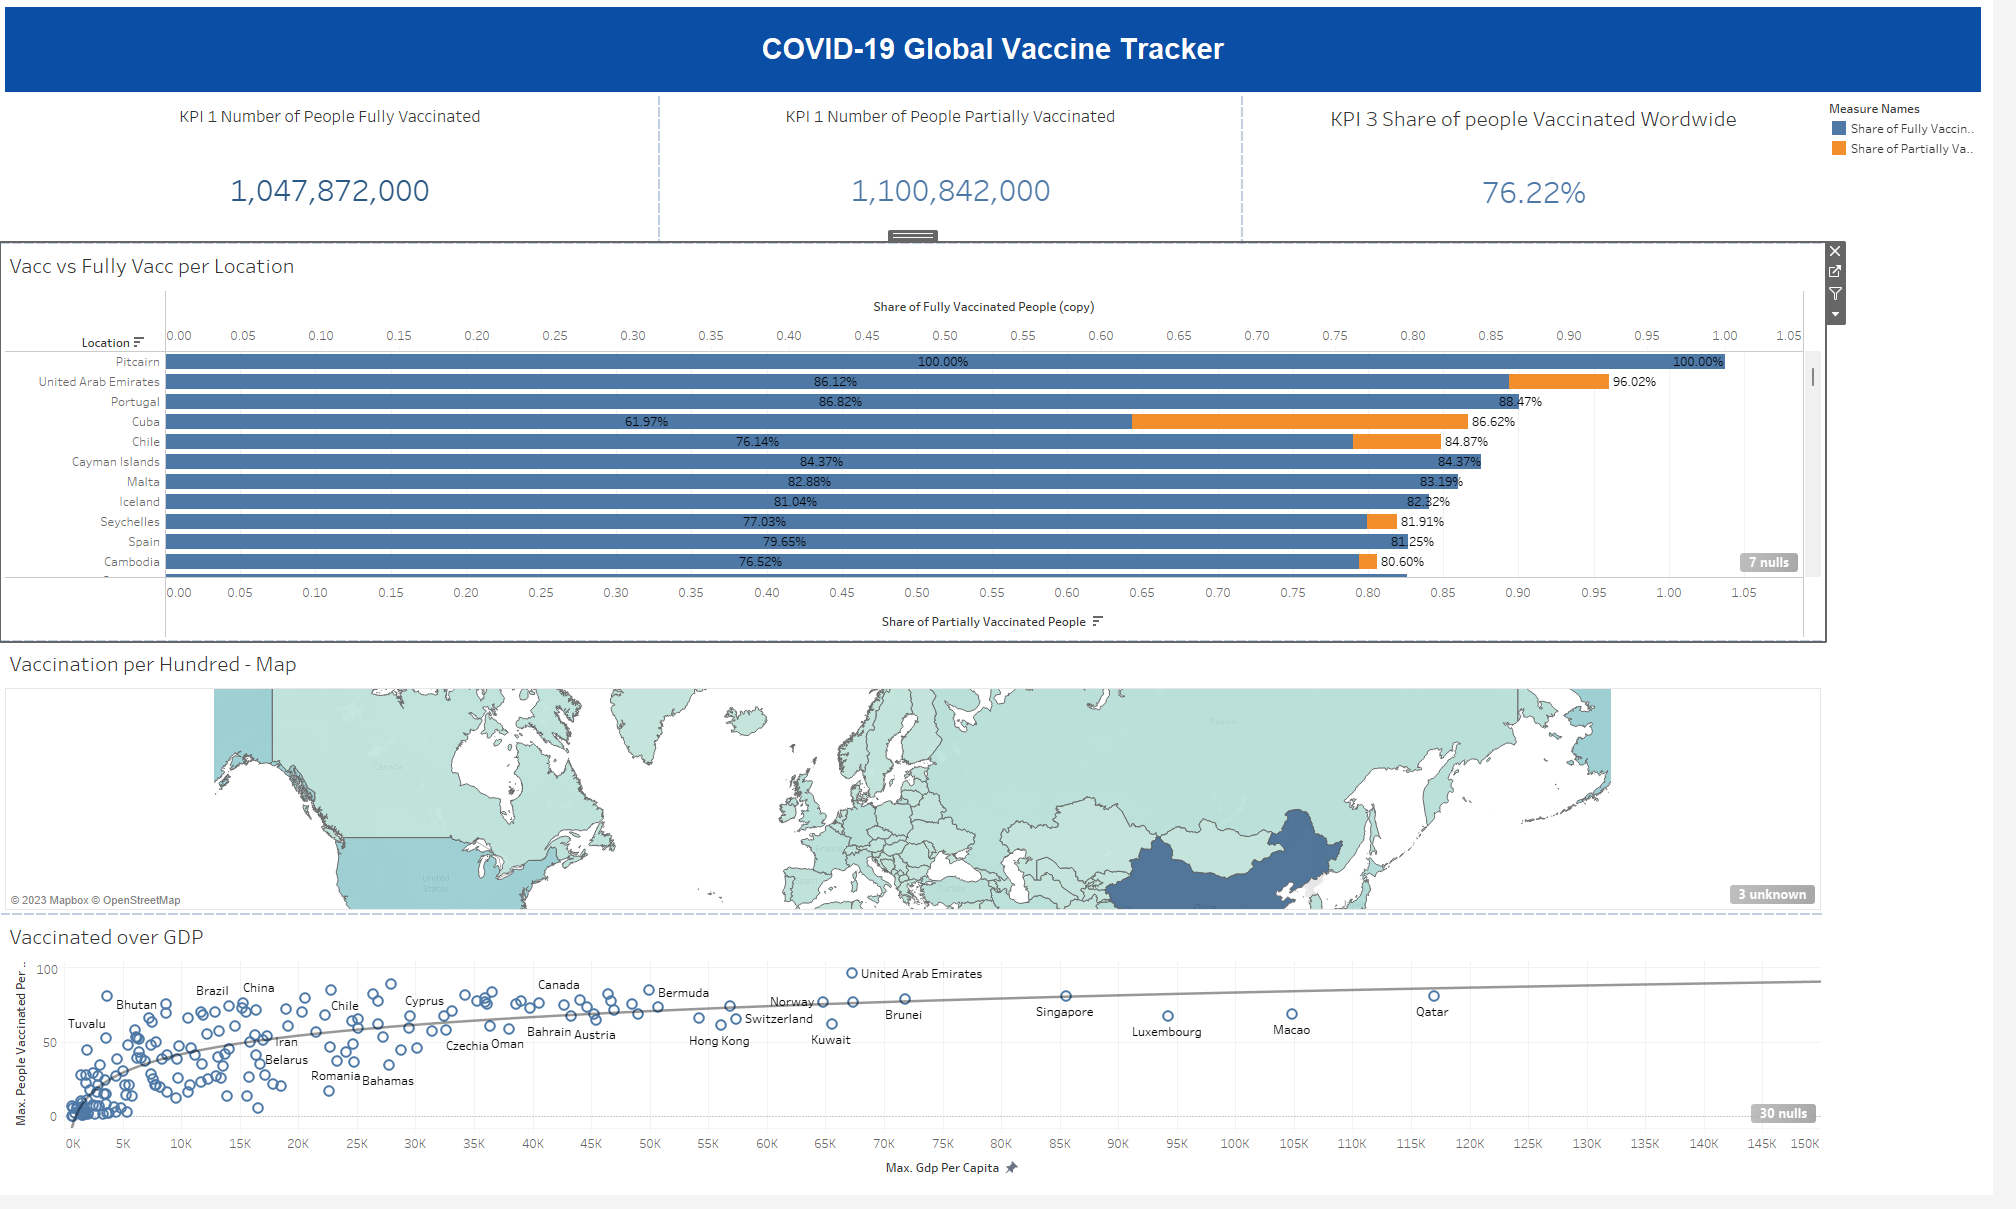

The page's visual inventory and layout, read from the dashboard file:
{"tool":"tableau","page":{"name":"Dashboard 5","canvas":[2000,1200],"ordinal":0},"visuals":[{"type":"title","box":[8,8,1984,93]},{"type":"worksheet","title":"KPI 1 People Fully Vaccinated","mark":"Automatic","box":[8,101,658,146.5]},{"type":"worksheet","title":"KPI 2 People Partially Vaccinated (2)","mark":"Automatic","box":[666,101,583,146.5]},{"type":"worksheet","title":"KPI 3 Share of people Vaccinated Wordwide","mark":"Automatic","box":[1249,101,583,146.5]},{"type":"legend","title":"Vacc vs Fully Vacc per Location","param":"[federated.10x6of515xv8o71f4pu5p0mn662t].[:Measure Names]","box":[1832,101,160,66]},{"type":"worksheet","title":"Vacc vs Fully Vacc per Location","mark":"Bar","rows":["Location"],"cols":["Calculation_2431662392493182976","Share of Partially Vaccinated People (copy)_2431943799106277"],"box":[8,247.5,1824,399]},{"type":"worksheet","title":"Vaccination per Hundred - Map","mark":"Automatic","box":[8,646.5,1824,272.7]},{"type":"worksheet","title":"Vaccinated over GDP","mark":"Automatic","rows":["People Vaccinated Per Hundred"],"cols":["Gdp Per Capita"],"box":[8,919.2,1824,272.8]}]}

Visuals, with their boxes in screenshot pixels (x1, y1, x2, y2), scaled from the page's 2000x1200 canvas onto the 2016x1209 screenshot:
title: crop(8, 8, 2008, 102)
"KPI 1 People Fully Vaccinated" worksheet: crop(8, 102, 671, 249)
"KPI 2 People Partially Vaccinated (2)" worksheet: crop(671, 102, 1259, 249)
"KPI 3 Share of people Vaccinated Wordwide" worksheet: crop(1259, 102, 1847, 249)
"Vacc vs Fully Vacc per Location" legend: crop(1847, 102, 2008, 168)
"Vacc vs Fully Vacc per Location" worksheet (Bar marks): crop(8, 249, 1847, 651)
"Vaccination per Hundred - Map" worksheet: crop(8, 651, 1847, 926)
"Vaccinated over GDP" worksheet: crop(8, 926, 1847, 1201)
